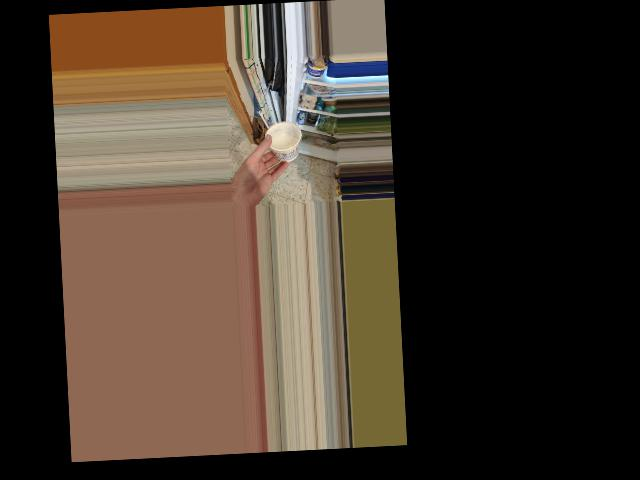cotage: (268, 122, 301, 162)
